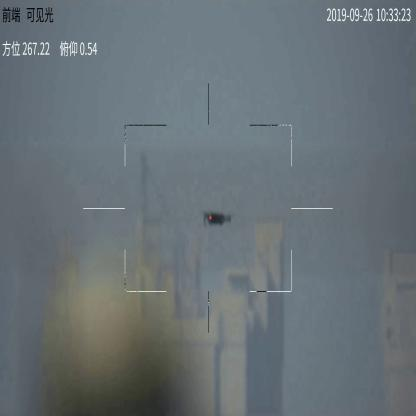uav: (199, 208, 237, 226)
